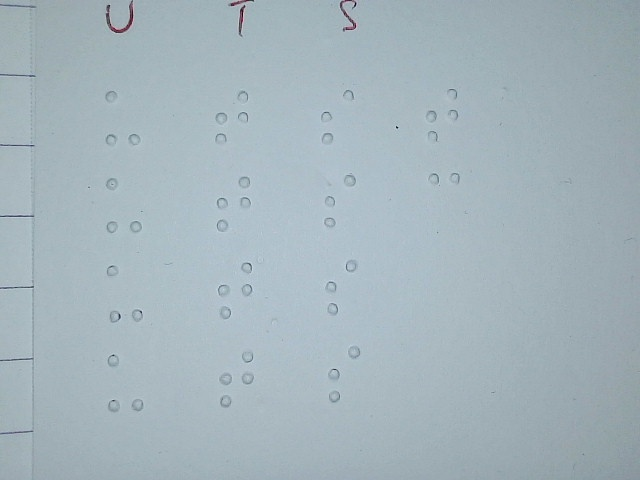S: (327, 343, 362, 402), (320, 88, 355, 145), (322, 172, 357, 229), (324, 258, 359, 315)
T: (217, 260, 253, 320), (219, 348, 255, 408), (214, 88, 249, 145), (216, 174, 251, 231)
U: (106, 262, 144, 322), (106, 352, 144, 412), (104, 89, 142, 147), (105, 176, 143, 234)
